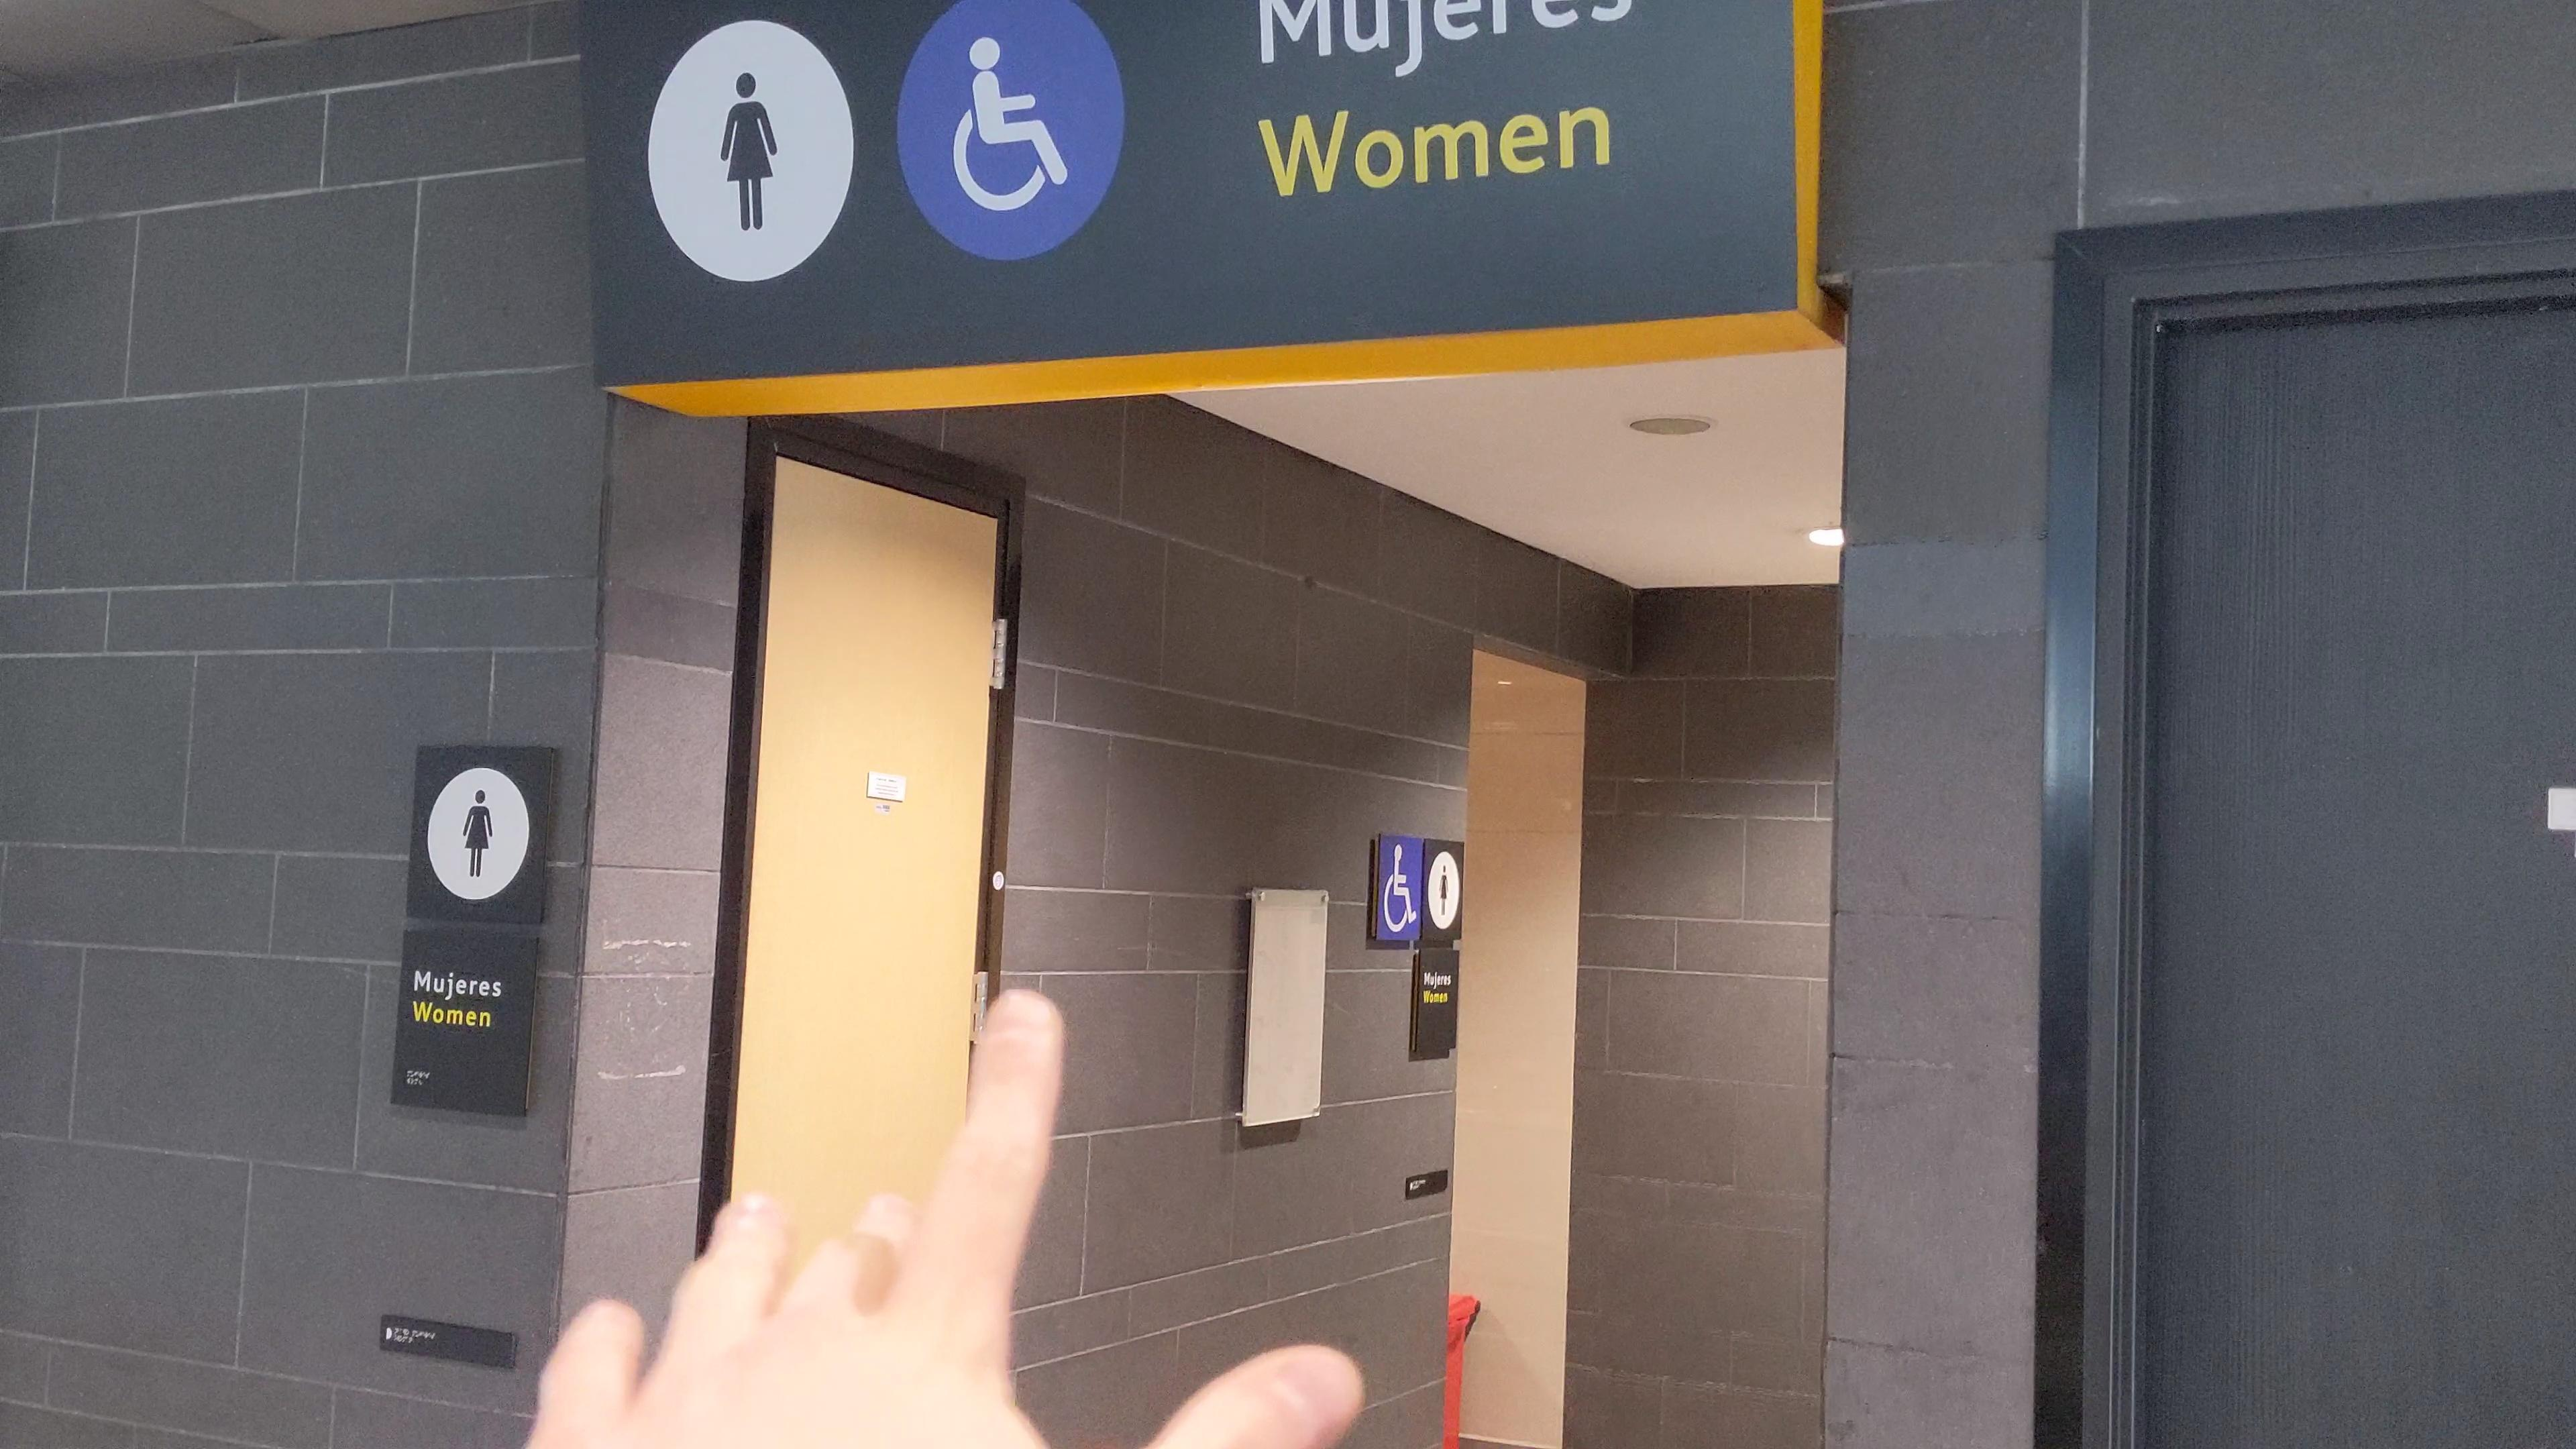handicapped symbol: (947, 32, 1081, 217), (1381, 841, 1419, 933)
